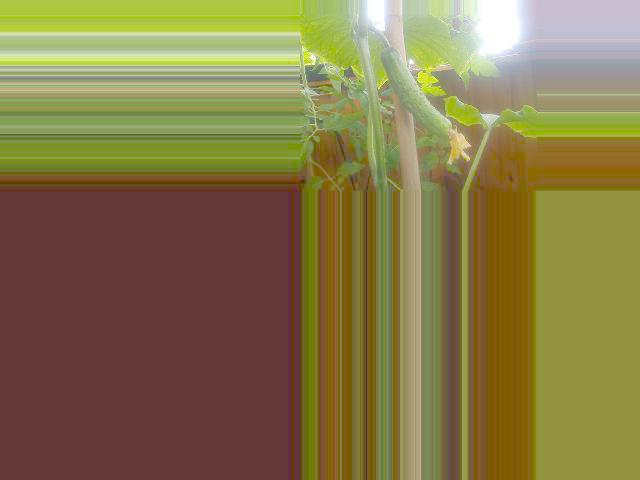cucumber: (381, 47, 472, 165)
